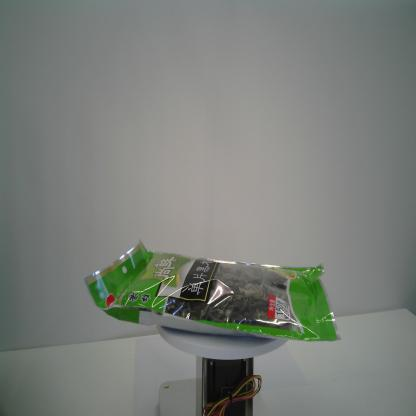Dried Food: (81, 236, 343, 343)
